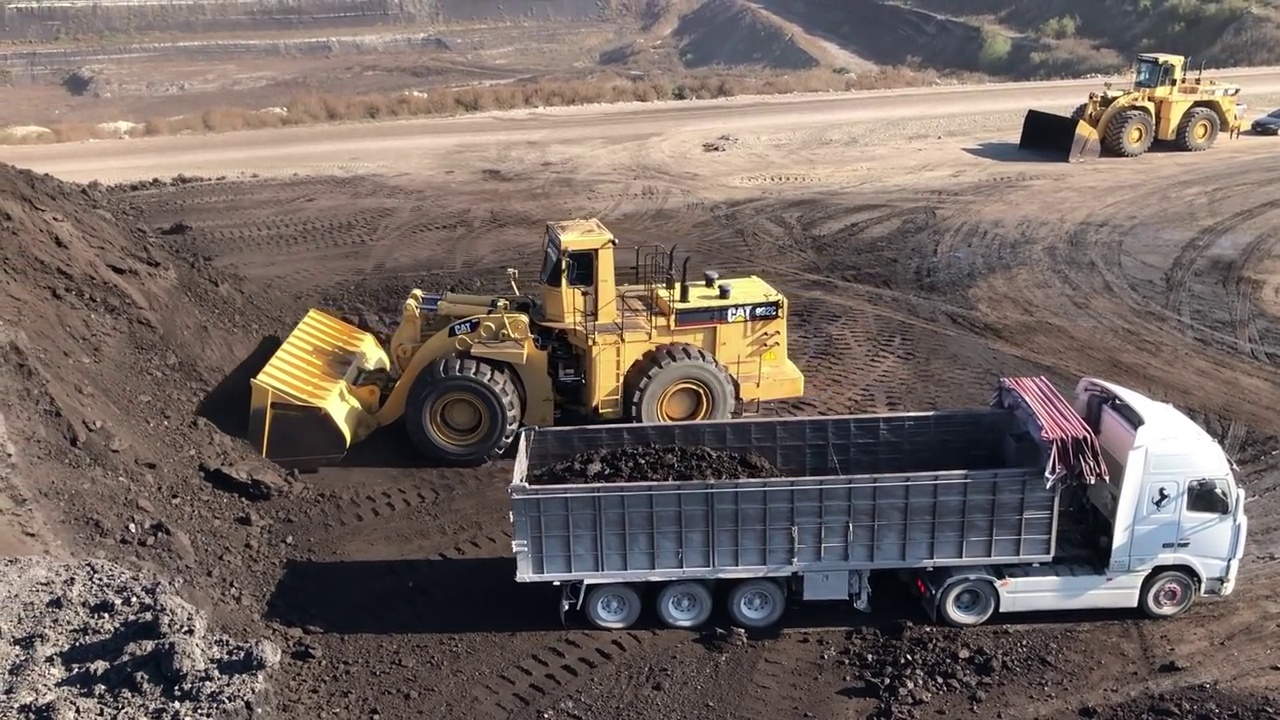truck: (513, 372, 1250, 625)
wheel loader: (219, 221, 809, 465), (1018, 55, 1245, 166)
